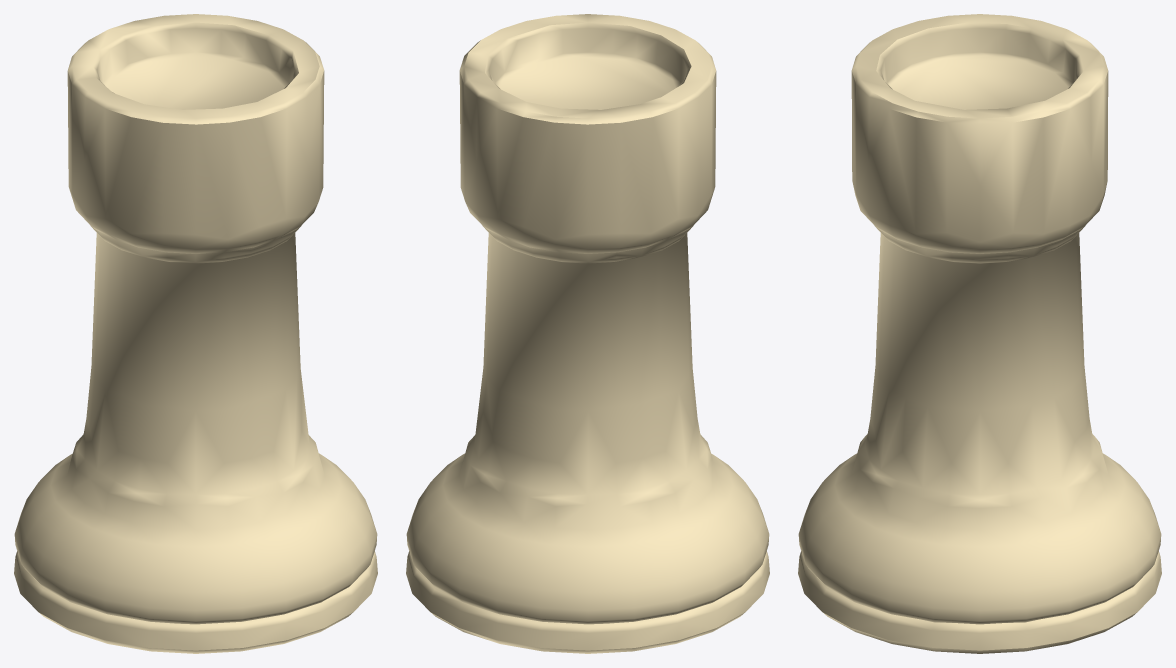
The model's file is xadrez_torre_branco_pacote.glb.
The picture shows the model from 3 angles, left to right: view 1: azimuth 30°, elevation 25°; view 2: azimuth 150°, elevation 25°; view 3: azimuth 270°, elevation 25°; orthographic projection.
Visible parts, largest first — view 1: xadrez_torre_branco_pacote; view 2: xadrez_torre_branco_pacote; view 3: xadrez_torre_branco_pacote.
Boxes of the visible parts, x1=… form: xadrez_torre_branco_pacote: x1=14, y1=14, x2=377, y2=653; xadrez_torre_branco_pacote: x1=406, y1=14, x2=769, y2=653; xadrez_torre_branco_pacote: x1=798, y1=14, x2=1161, y2=653.
Bounding box in the file's own units: 0.0369 × 0.0581 × 0.0369.
Materials: 1 (1 with a texture image).
